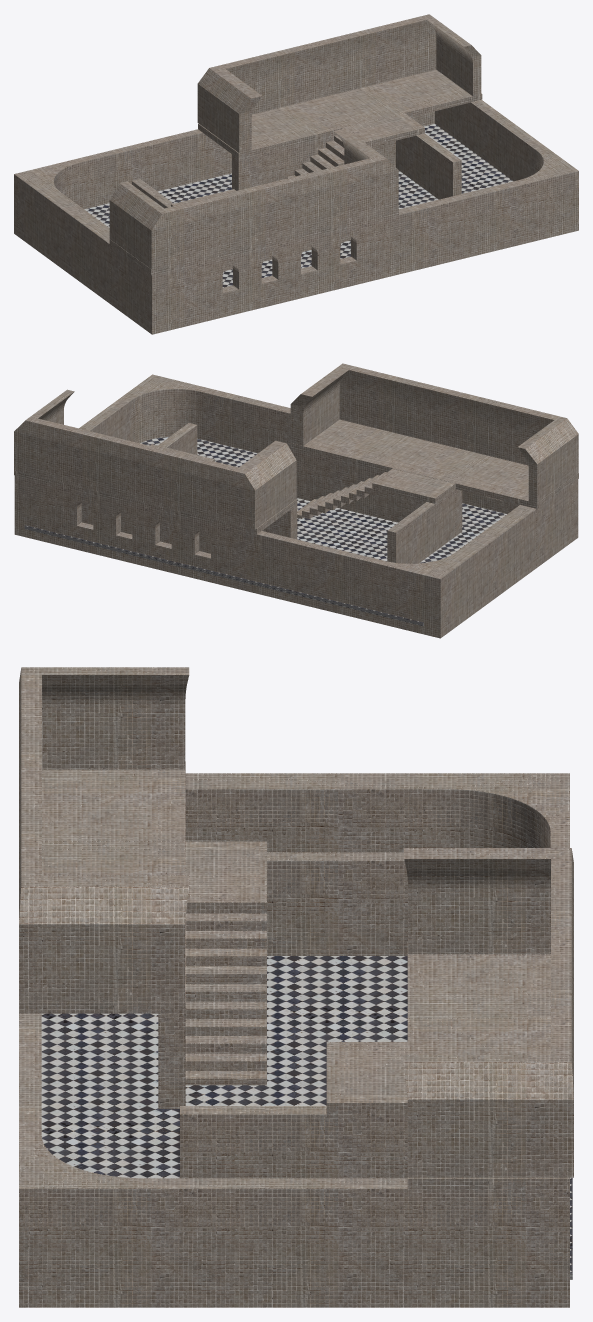
File: valhalla_6.fbx
3 renders of one model, top to bottom at view 1: azimuth 30°, elevation 25°; view 2: azimuth 150°, elevation 25°; view 3: azimuth 270°, elevation 25°, orthographic. The views are drawn at different scales.
Visible parts, largest first — view 1: Cube.001; view 2: Cube.001; view 3: Cube.001.
Part boxes in pixels (x1,y1,x2,y2): Cube.001: (14,14,578,334); Cube.001: (14,363,578,638); Cube.001: (19,667,573,1307).
Bounding box in the file's own units: 43.58 × 12.53 × 24.53.
Materials: 3 (3 with a texture image).
